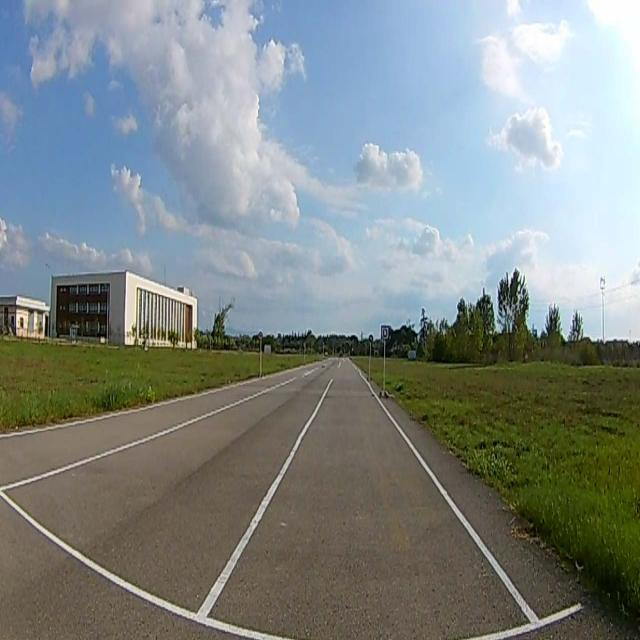durak: (381, 326, 389, 340)
